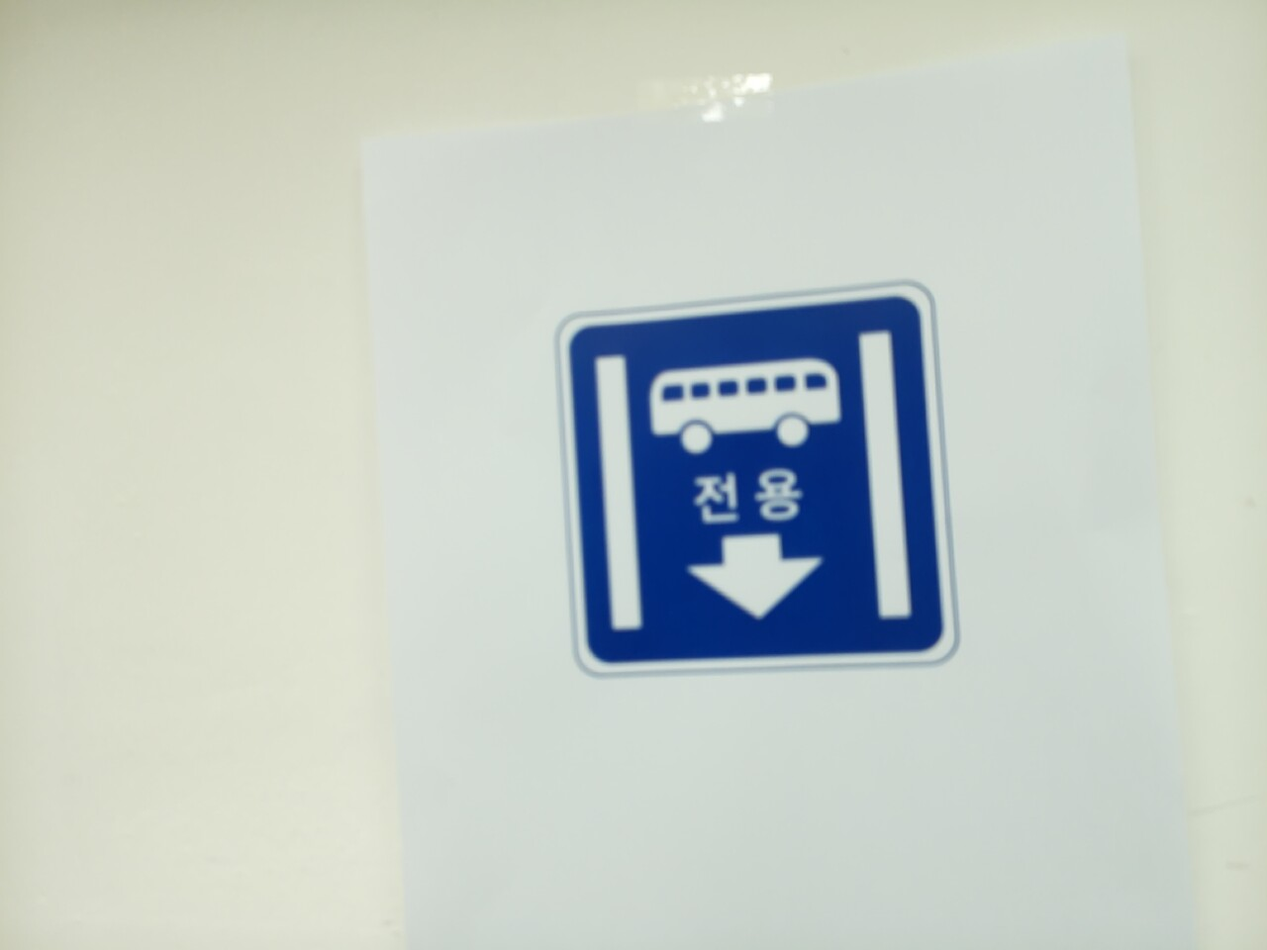bus_only_lane: (558, 285, 954, 674)
